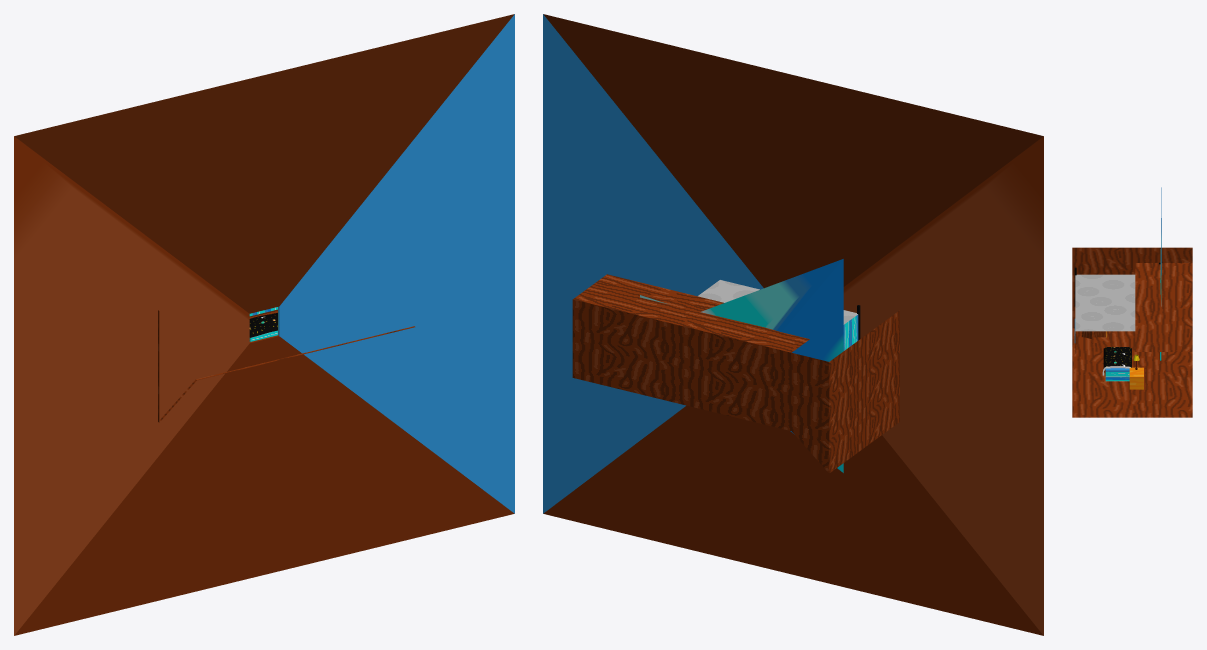
File: Miaoom.fbx
3 views of the same model, side by side, from view 1: azimuth 30°, elevation 25°; view 2: azimuth 150°, elevation 25°; view 3: azimuth 270°, elevation 25° (orthographic). The views are drawn at different scales.
Visible parts, largest first — view 1: Plane, Plane.001; view 2: Plane, Plane.001; view 3: Plane.001, Plane, Plane.002, Cube, Cube.010.
Part boxes in pixels (x1,y1,x2,y2): Plane: [14, 14, 514, 635]; Plane.001: [158, 309, 414, 422]; Plane: [543, 14, 1043, 635]; Plane.001: [572, 274, 899, 473]; Plane.001: [1072, 247, 1192, 417]; Plane: [1074, 187, 1161, 360]; Plane.002: [1103, 347, 1131, 368]; Cube: [1105, 368, 1129, 381]; Cube.010: [1129, 367, 1143, 389].
Size of the model in its own units: 2024 by 1930 by 503.
